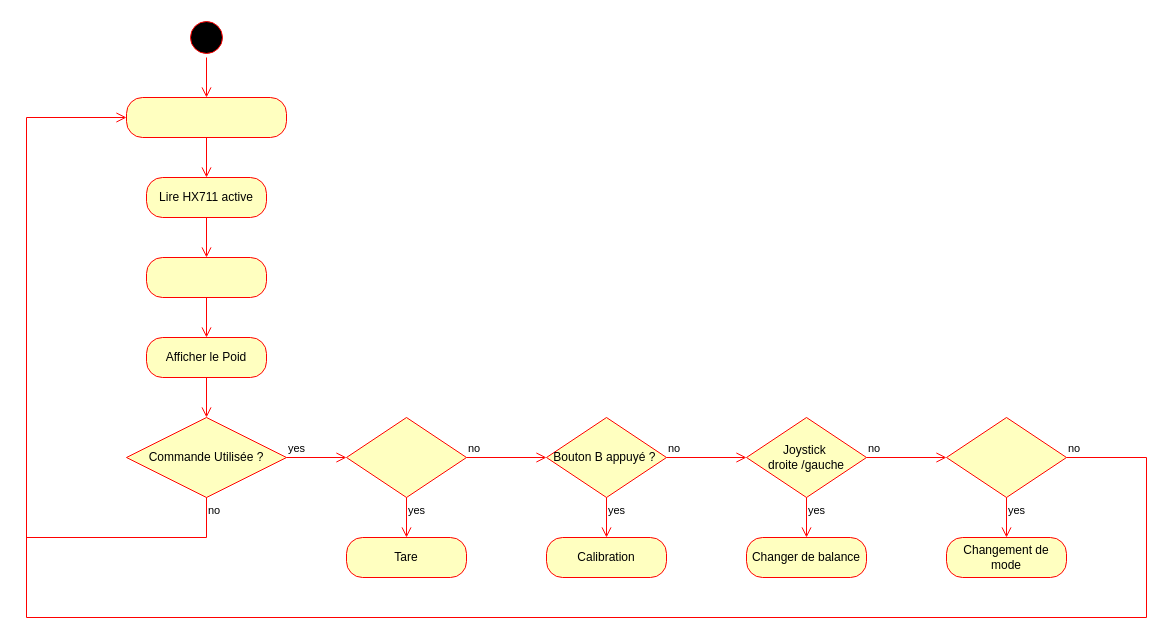
The diagram is 1165 pixels wide and 636 high, and some of its shapes have lost their labels. Here are the shapes that lost their labels. From the top down, the centre of each, then its label:
At point (206, 117): "Afficher la balance Active".
At point (206, 277): "Filtrer mesure".
At point (406, 457): "Bouton A appuyé ?".
At point (1006, 457): "Bouton C appuyé ?".
